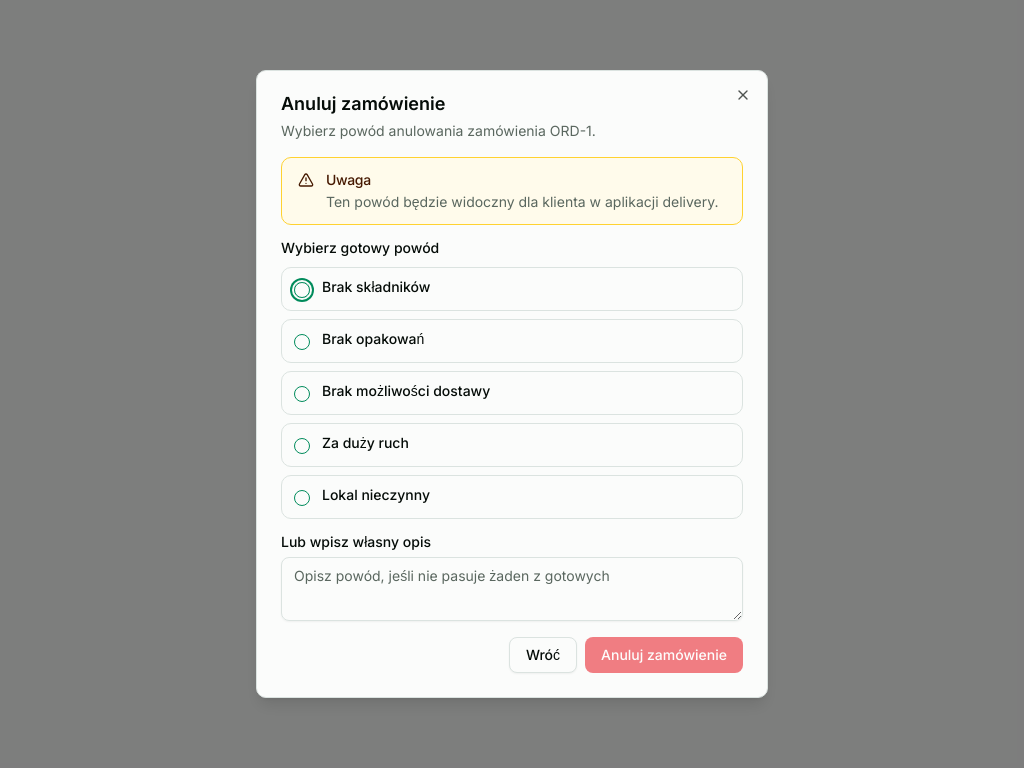
OrderCancelDialog › disables confirm until a predefined reason or custom text is provided
Check: the button "Anuluj zamówienie" is disabled, box [585,637,743,673]
Step 1. Click the text "Brak składników" → (376, 287), box [322,280,430,294]
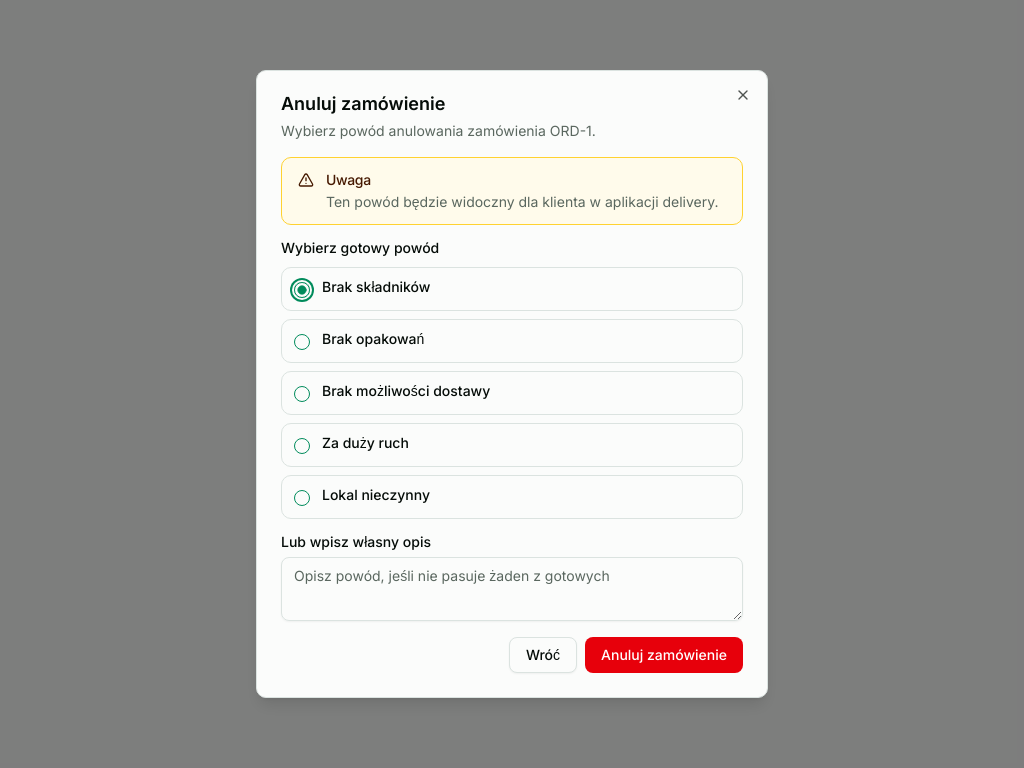
Check: the button "Anuluj zamówienie" is enabled, box [585,637,743,673]
